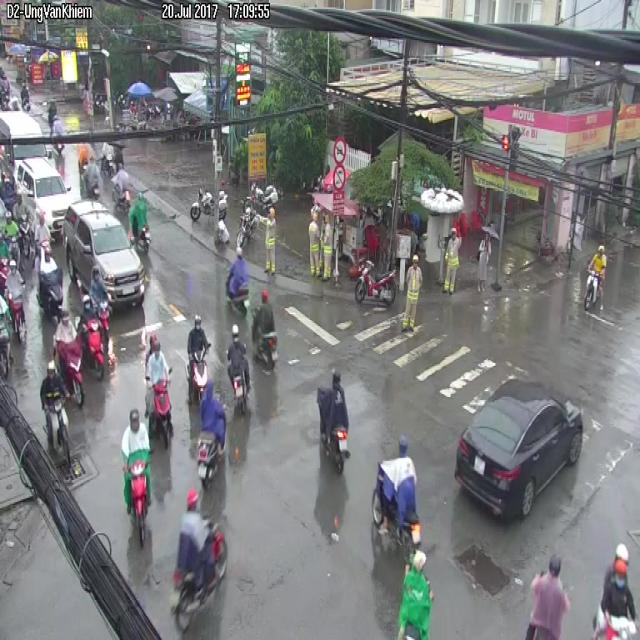car: (146, 335, 172, 446), (355, 259, 398, 305), (318, 372, 348, 436), (584, 246, 606, 310), (188, 314, 211, 372)
traffic-light: (455, 379, 583, 520), (64, 203, 144, 305), (14, 159, 78, 239)
